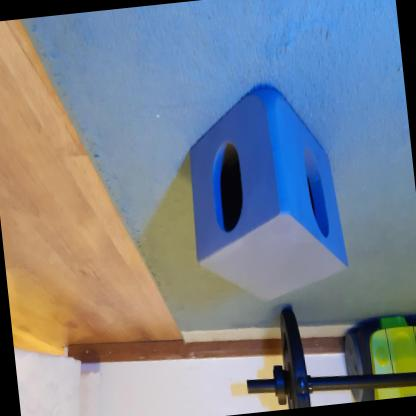CornerCasting: (177, 78, 351, 308)
